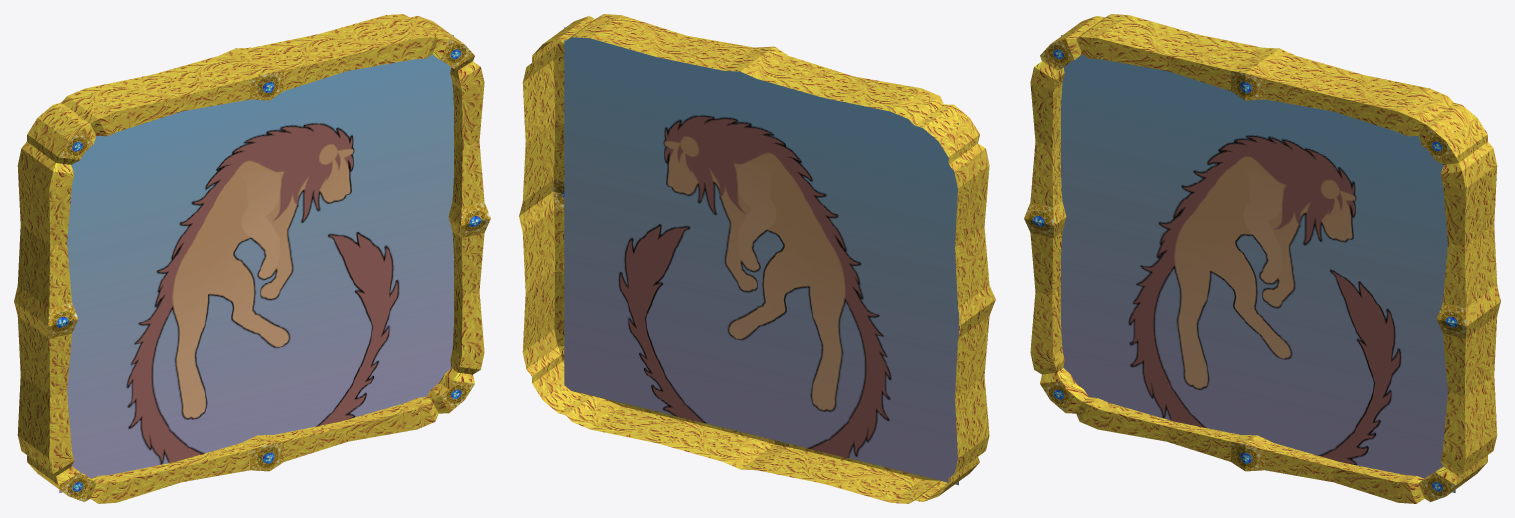
File: Cuadro_Mikzhiel.fbx
3 views of the same model, side by side, from view 1: azimuth 30°, elevation 25°; view 2: azimuth 150°, elevation 25°; view 3: azimuth 330°, elevation 25° (orthographic).
Parts seen in each view (by area): view 1: Cube.028; view 2: Cube.028; view 3: Cube.028.
Part boxes in pixels (bbox=[...]): Cube.028: bbox=[14, 14, 490, 503]; Cube.028: bbox=[519, 14, 995, 503]; Cube.028: bbox=[1024, 14, 1500, 503].
Size of the model in its own units: 89.22 by 76.64 by 11.95.
